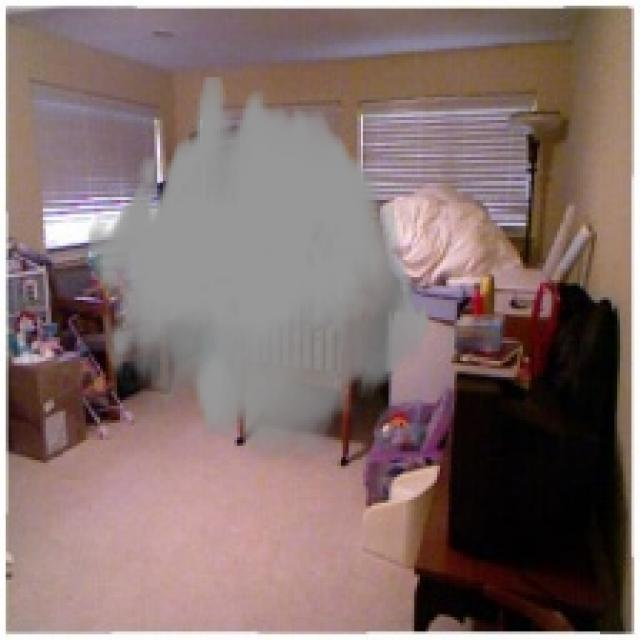smoke: (86, 77, 431, 460)
